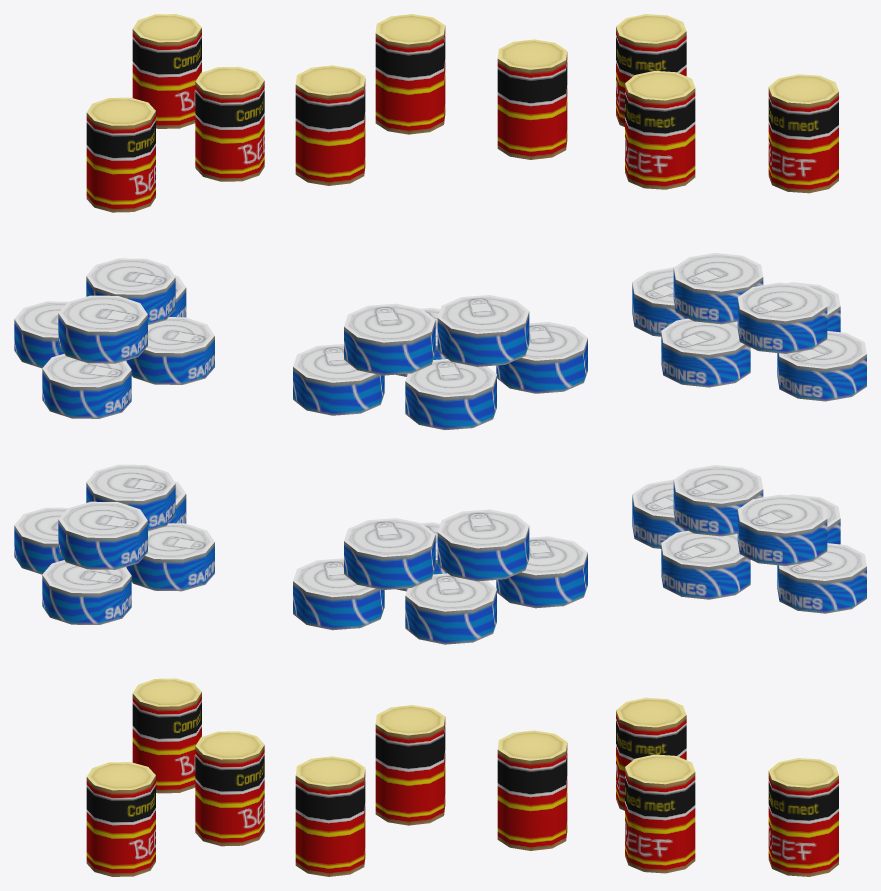
The model's file is CommFoodStuff01_7.FBX.
3 views of the same model, side by side, from view 1: azimuth 30°, elevation 25°; view 2: azimuth 150°, elevation 25°; view 3: azimuth 270°, elevation 25° (orthographic). The views are drawn at different scales.
Visible parts, largest first — view 1: CommFoodStuff01_7; view 2: CommFoodStuff01_7; view 3: CommFoodStuff01_7.
Boxes of the visible parts, x1=… form: CommFoodStuff01_7: x1=14, y1=14, x2=264, y2=876; CommFoodStuff01_7: x1=293, y1=14, x2=587, y2=876; CommFoodStuff01_7: x1=616, y1=14, x2=866, y2=876.
Size of what is drawn, in the model's own units: 0.48 by 1.64 by 0.482.
